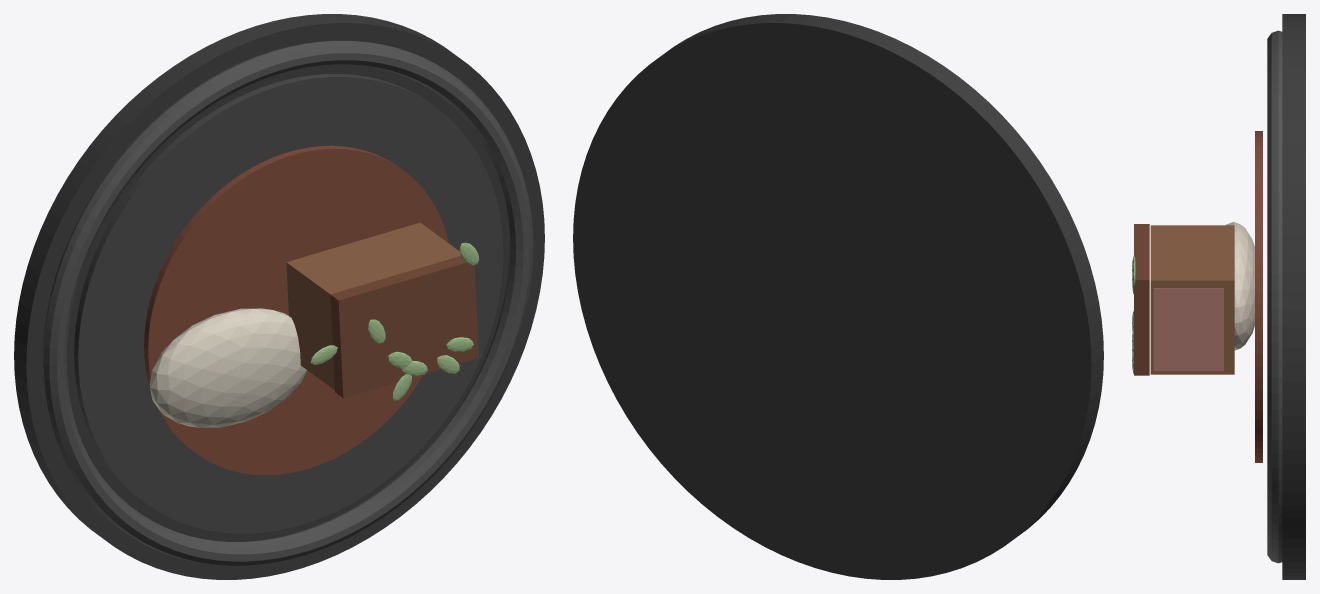
The model's file is 07_dry_aged_beef_steak_bordelaise.glb.
The picture shows the model from 3 angles, left to right: view 1: azimuth 30°, elevation 25°; view 2: azimuth 150°, elevation 25°; view 3: azimuth 270°, elevation 25°; orthographic projection. The views are drawn at different scales.
Visible parts, largest first — view 1: plate_surface, plate_base, bordelaise_pool, plate_rim, ratte_potato_puree, seared_top_crust, dry_aged_steak_crust; view 2: plate_base; view 3: plate_base, plate_rim, dry_aged_steak_crust, medium_rare_cut_face, bordelaise_pool, ratte_potato_puree, seared_top_crust.
Part boxes in pixels (bbox=[...]): plate_surface: bbox=[74, 74, 503, 533]; plate_base: bbox=[14, 14, 544, 579]; bordelaise_pool: bbox=[144, 145, 448, 475]; plate_rim: bbox=[42, 40, 533, 565]; ratte_potato_puree: bbox=[149, 308, 307, 427]; seared_top_crust: bbox=[330, 256, 478, 398]; dry_aged_steak_crust: bbox=[286, 222, 460, 389]; plate_base: bbox=[573, 14, 1103, 579]; plate_base: bbox=[1282, 14, 1305, 579]; plate_rim: bbox=[1267, 30, 1282, 563]; dry_aged_steak_crust: bbox=[1150, 225, 1234, 374]; medium_rare_cut_face: bbox=[1153, 288, 1223, 371]; bordelaise_pool: bbox=[1255, 131, 1262, 462]; ratte_potato_puree: bbox=[1226, 221, 1254, 350]; seared_top_crust: bbox=[1134, 224, 1149, 375].
Size of the model in its own units: 0.29 by 0.29 by 0.089.
